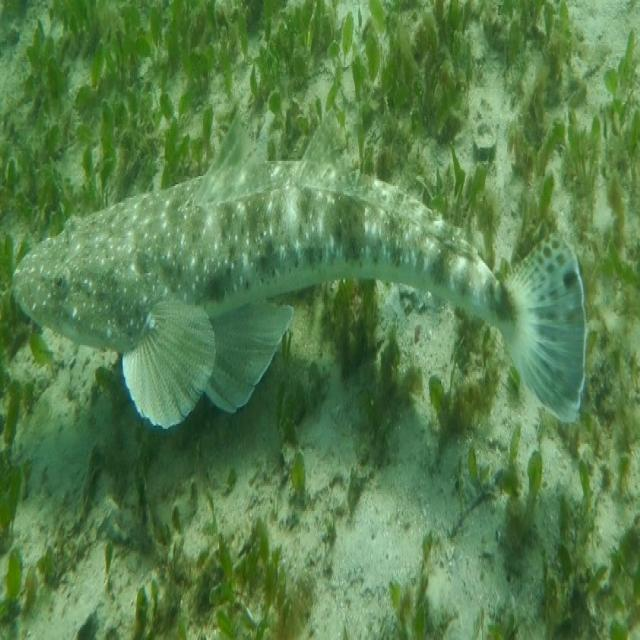Flathead: (9, 100, 586, 458)
